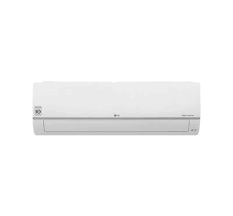ac: (29, 78, 204, 141)
